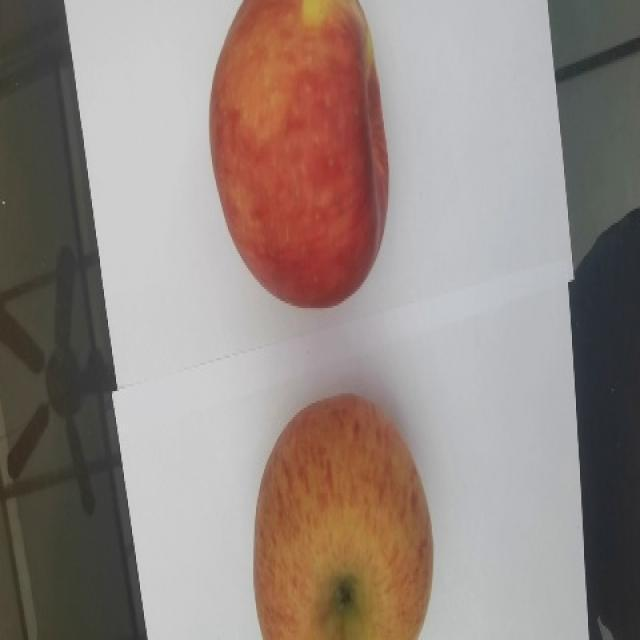Apple: (208, 0, 396, 312), (254, 395, 434, 640)
